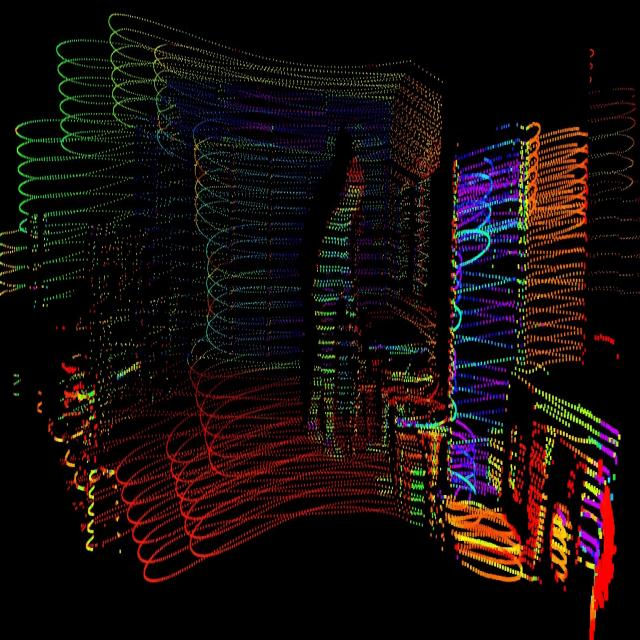human: (302, 144, 368, 477)
